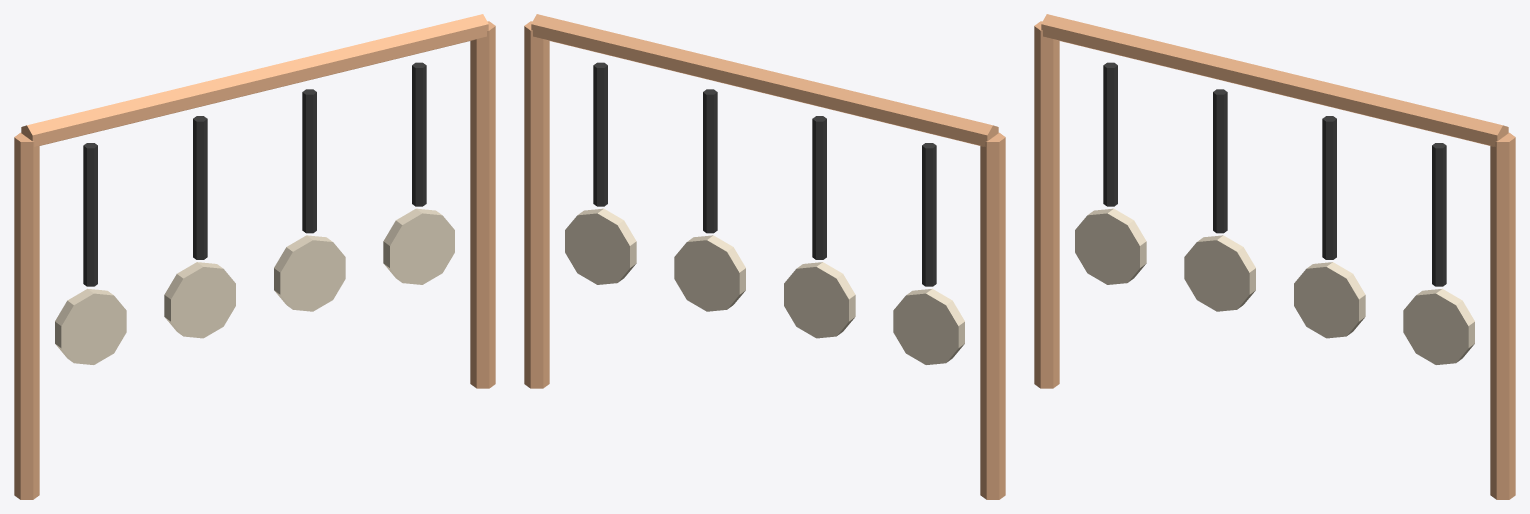
3 renders of one model, left to right at view 1: azimuth 30°, elevation 25°; view 2: azimuth 150°, elevation 25°; view 3: azimuth 330°, elevation 25°, orthographic.
Visible parts, largest first — view 1: Crossbar, Post, Post.001, Utensil head.002, Utensil head.001, Utensil head.003, Utensil head, Utensil grip.002, Utensil grip.003, Utensil grip, Utensil grip.001; view 2: Crossbar, Post, Post.001, Utensil head.002, Utensil head.001, Utensil head.003, Utensil head, Utensil grip.002, Utensil grip.003, Utensil grip, Utensil grip.001; view 3: Crossbar, Post.001, Post, Utensil head.001, Utensil head, Utensil head.002, Utensil head.003, Utensil grip.001, Utensil grip, Utensil grip.002, Utensil grip.003.
Part boxes in pixels (x1,y1,x2,y2): Crossbar: (21,14,488,146); Post: (14,132,39,499); Post.001: (470,21,495,388); Utensil head.002: (274,235,345,311); Utensil head.001: (164,262,235,338); Utensil head.003: (383,208,454,284); Utensil head: (55,288,126,364); Utensil grip.002: (302,89,316,233); Utensil grip.003: (412,62,426,206); Utensil grip: (83,143,97,286); Utensil grip.001: (193,116,207,259); Crossbar: (531,14,998,146); Post: (980,132,1005,499); Post.001: (524,21,549,388); Utensil head.002: (674,235,745,311); Utensil head.001: (784,262,855,338); Utensil head.003: (565,208,636,284); Utensil head: (893,288,964,364); Utensil grip.002: (703,89,717,233); Utensil grip.003: (593,62,607,206); Utensil grip: (922,143,936,286); Utensil grip.001: (812,116,826,259); Crossbar: (1041,14,1508,146); Post.001: (1490,132,1515,499); Post: (1034,21,1059,388); Utensil head.001: (1184,235,1255,311); Utensil head: (1075,208,1146,284); Utensil head.002: (1294,262,1365,338); Utensil head.003: (1403,288,1474,364); Utensil grip.001: (1213,89,1227,233); Utensil grip: (1103,62,1117,206); Utensil grip.002: (1322,116,1336,259); Utensil grip.003: (1432,143,1446,286).
Bounding box in the file's own units: 1.04 × 0.775 × 0.048.
Materials: 1 (1 with a texture image).
